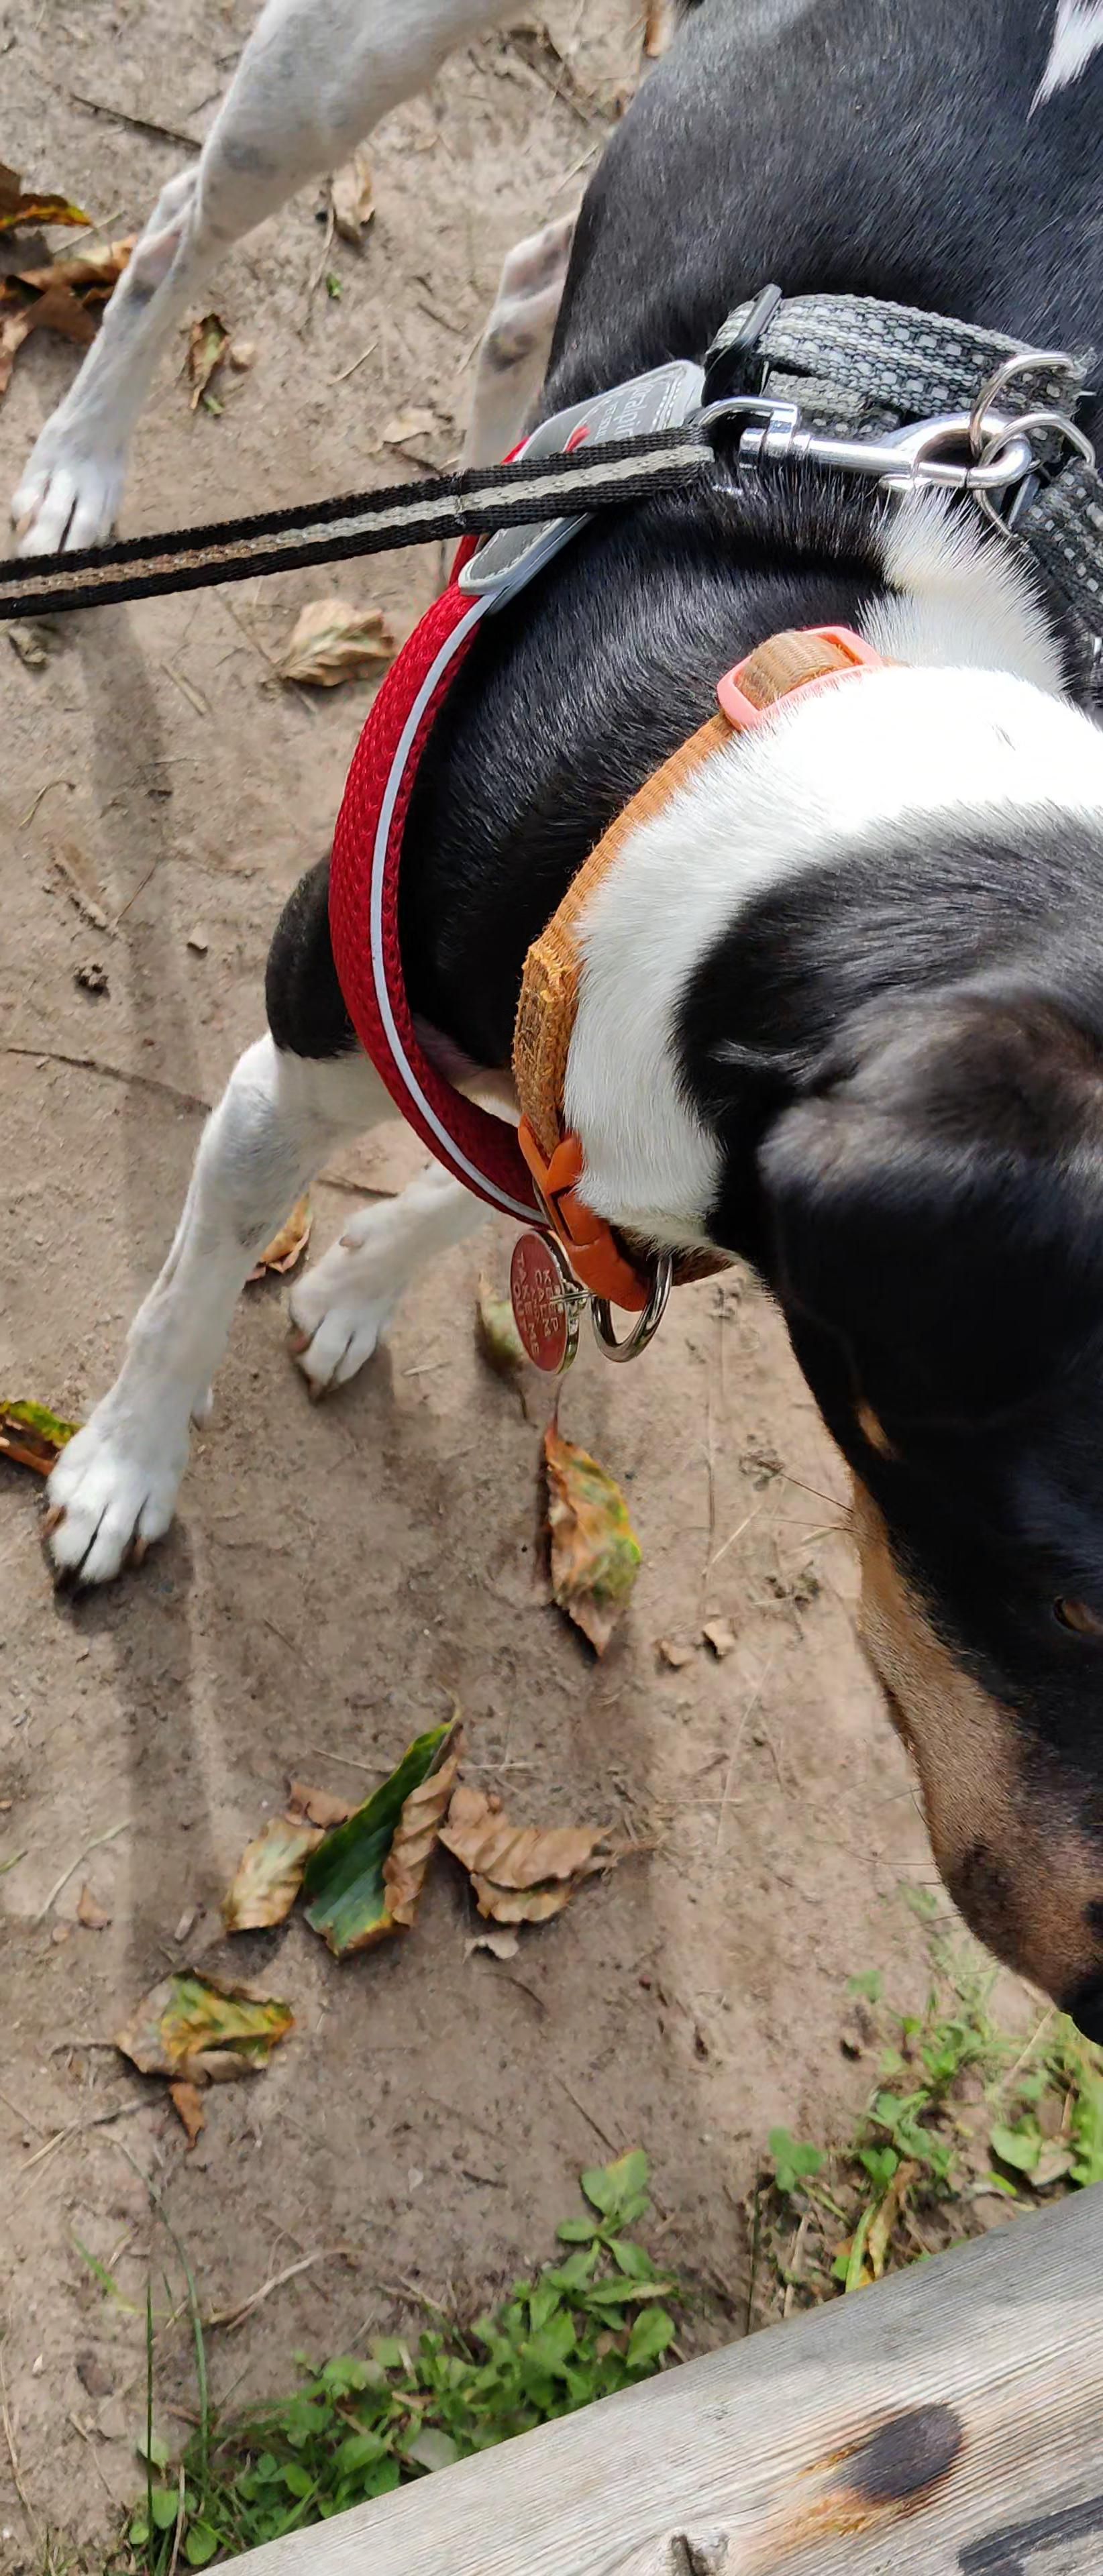Dog: (0, 0, 1062, 2136)
